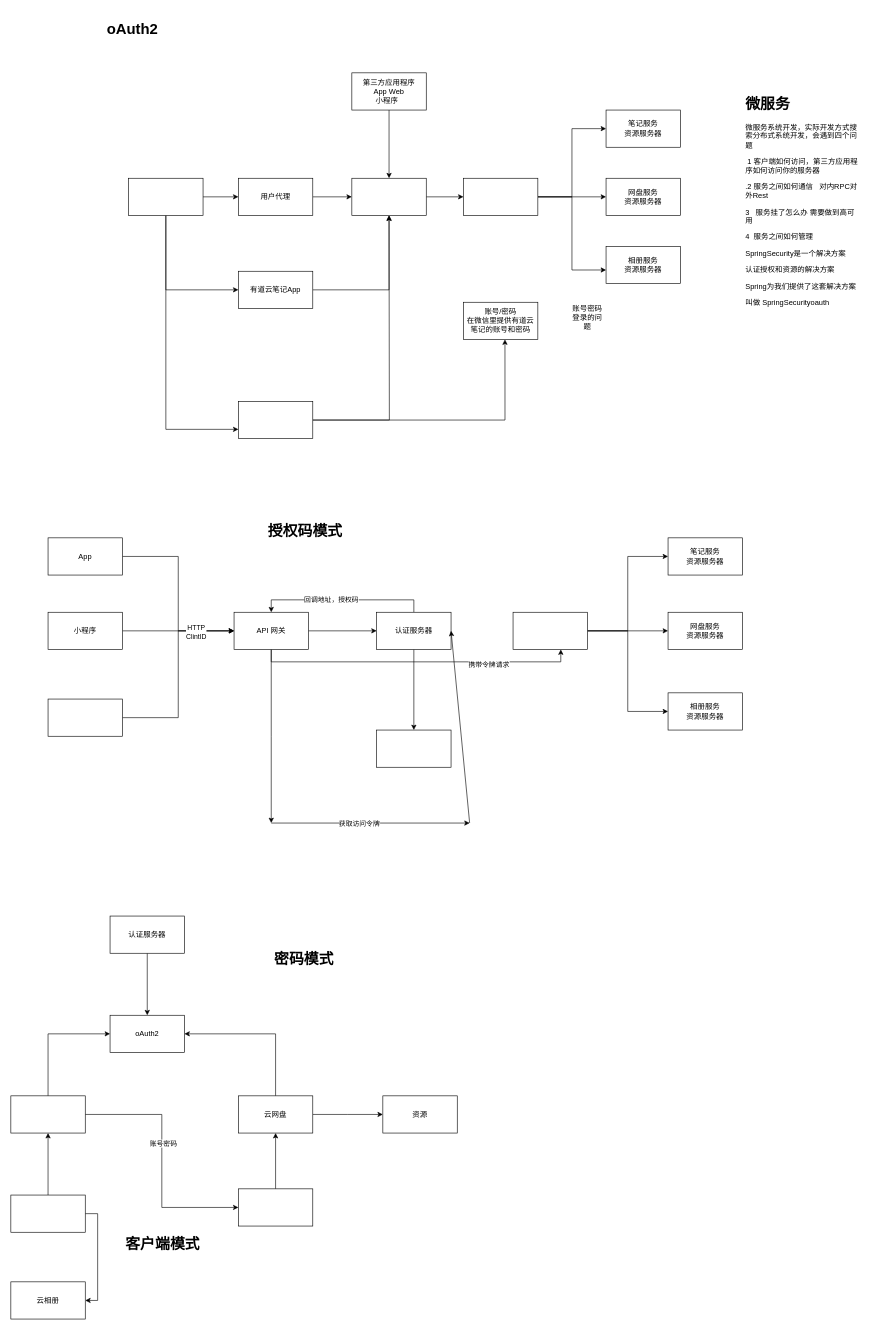
The diagram is 871 pixels wide and 1330 high, and some of its shapes have lost their labels. Here are the shapes that lost their labels. From the top down, the centre of each, then its label:
At point 165,196: "资源所有者 用户".
At point 388,196: "HTTP服务提供商 有道云笔记".
At point 500,196: "认证授权服务器".
At point 275,420: "微信小程序".
At point 549,630: "资源服务器".
At point 84,717: "PC".
At point 413,748: "登录页面".
At point 47,1114: "云笔记".
At point 47,1213: "欢迎登录云笔记".
At point 275,1207: "欢迎登录云网盘".
